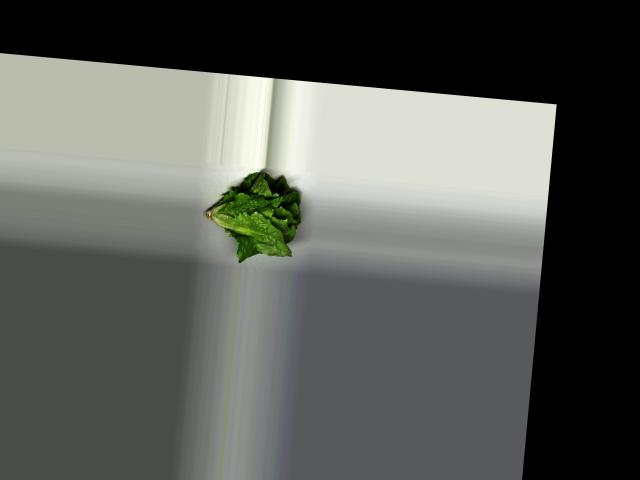lettuce: (199, 166, 305, 267)
